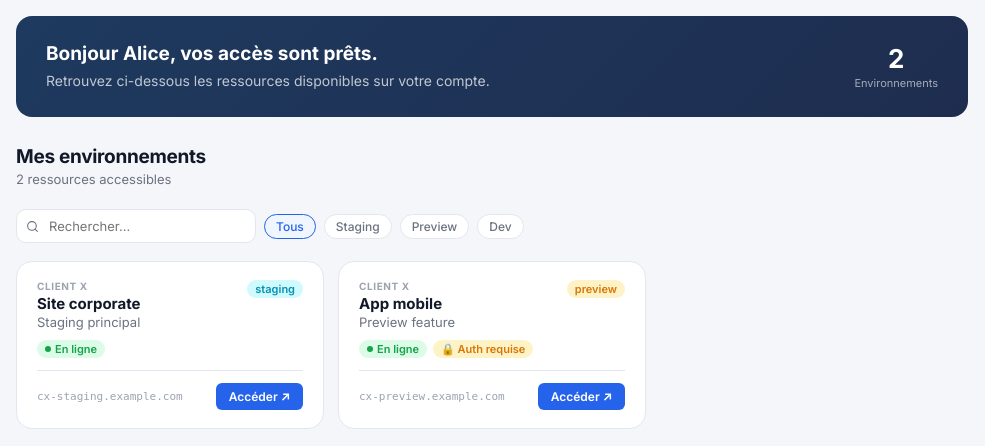
Scenario: PortalDashboard › filters by kind when clicking staging chip
What coordinates should you click on to do the following:
click the button "Staging"
I would click on:
 (358, 226)
Its box is 324,214 -> 392,238.
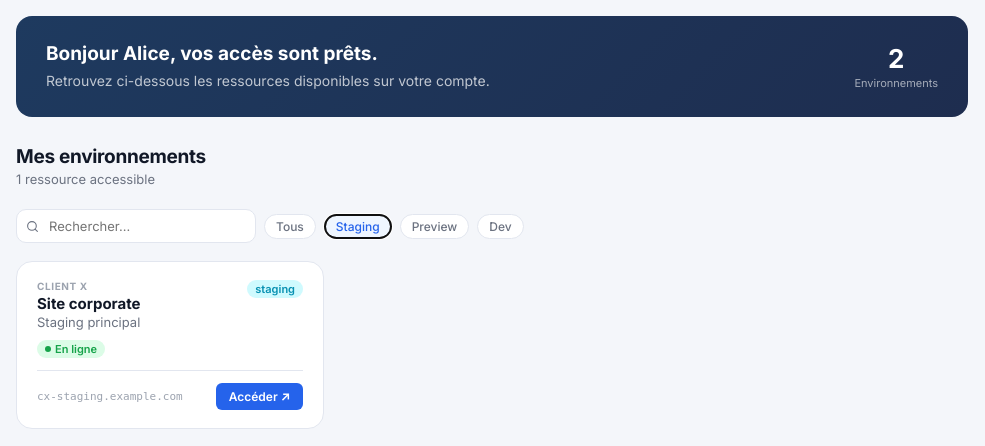
expect the text "Staging principal" is shown: met, box 37,314 -> 140,330
expect the link "Preview feature" is gone: met
